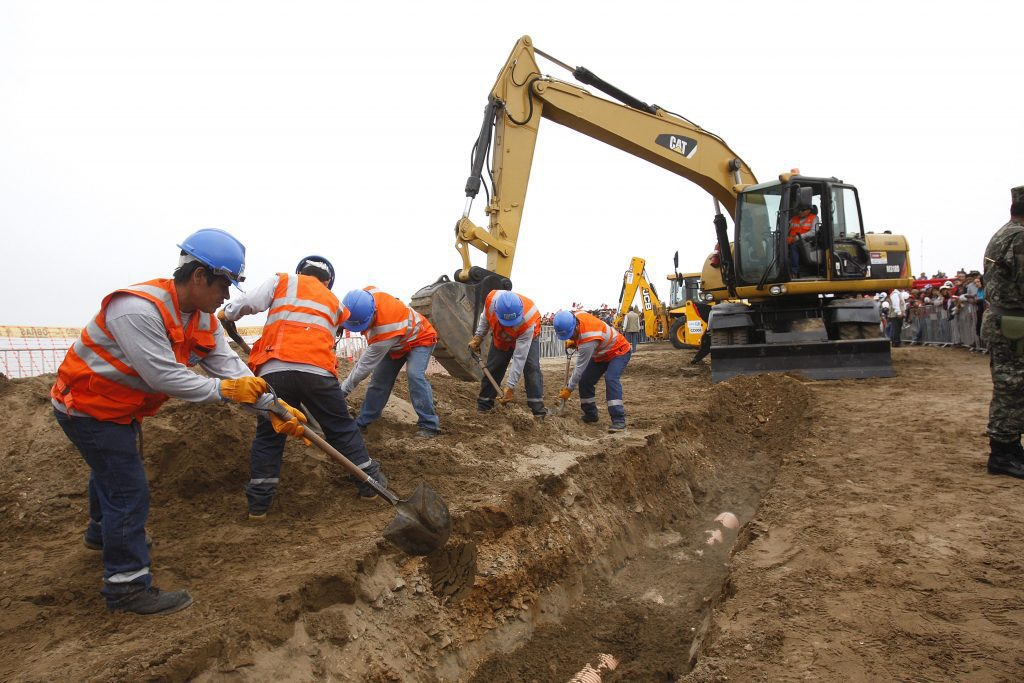Casco de seguridad: (177, 229, 244, 285), (342, 290, 375, 331), (493, 291, 522, 326), (553, 310, 576, 340)
